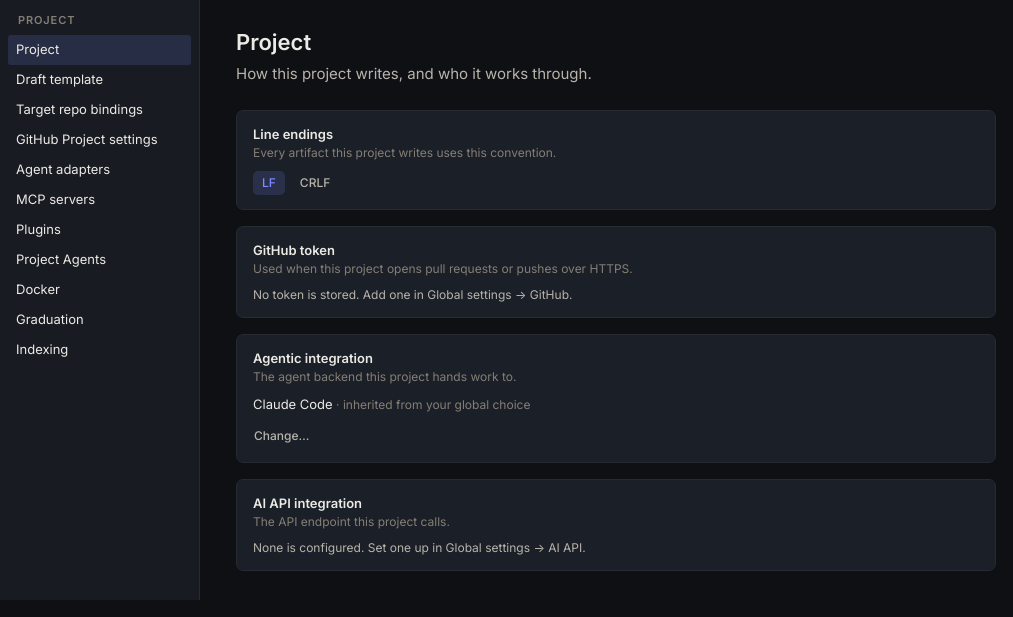
Test: the Project section's AI integration controls (SET-FR-13 / SET-FR-14) › SET-FR-13 names the inherited agentic choice, then overrides it without a dirty state
The image size is (1013, 617).
Click the tab "Project". click: coordinates (100, 50)
box: 8,34 -> 191,64
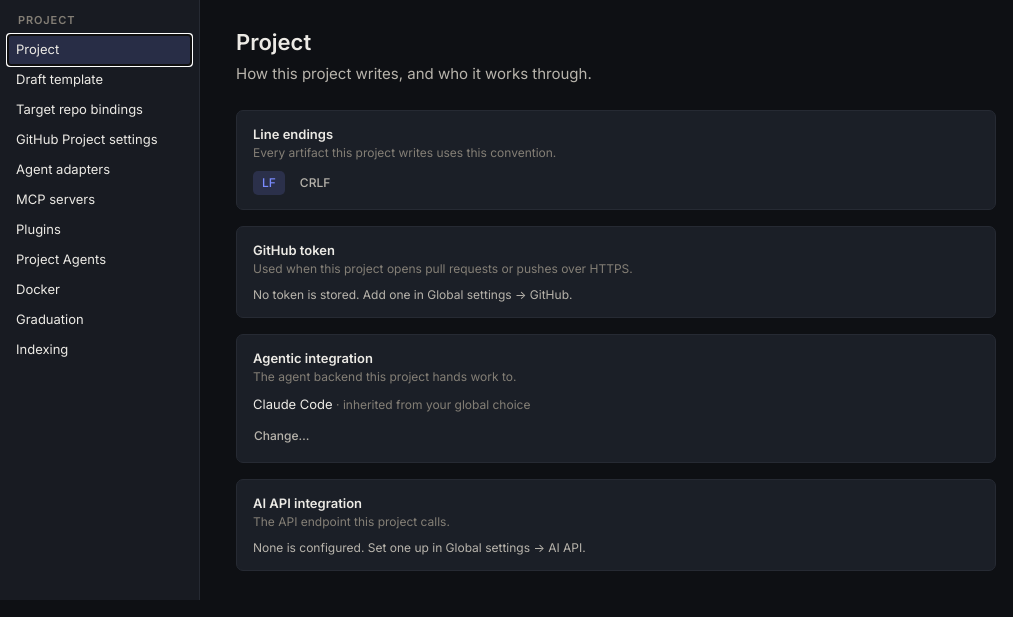
Expected: the element with test id "settings-agentic-integration" shows "Claude Code", 253,396 -> 333,412
Expected: the element with test id "settings-agentic-integration" shows "inherited", 336,397 -> 530,412
Click the button "Change…". click: coordinates (282, 436)
box: 245,424 -> 318,448
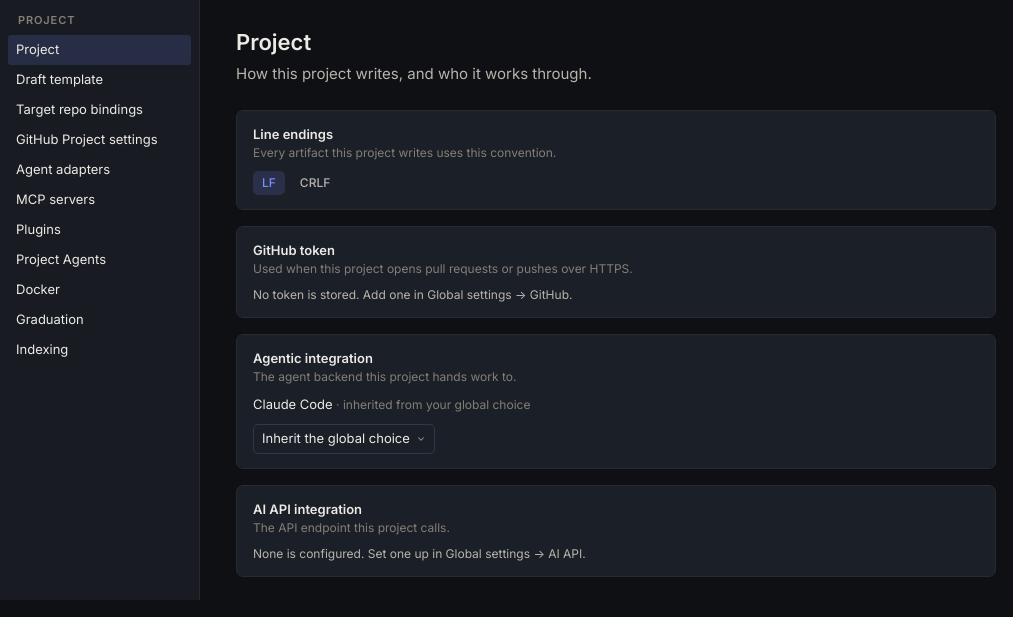
Select "Codex" in the dropdown named "Agentic integration". click: coordinates (344, 439)
box: 253,424 -> 435,454
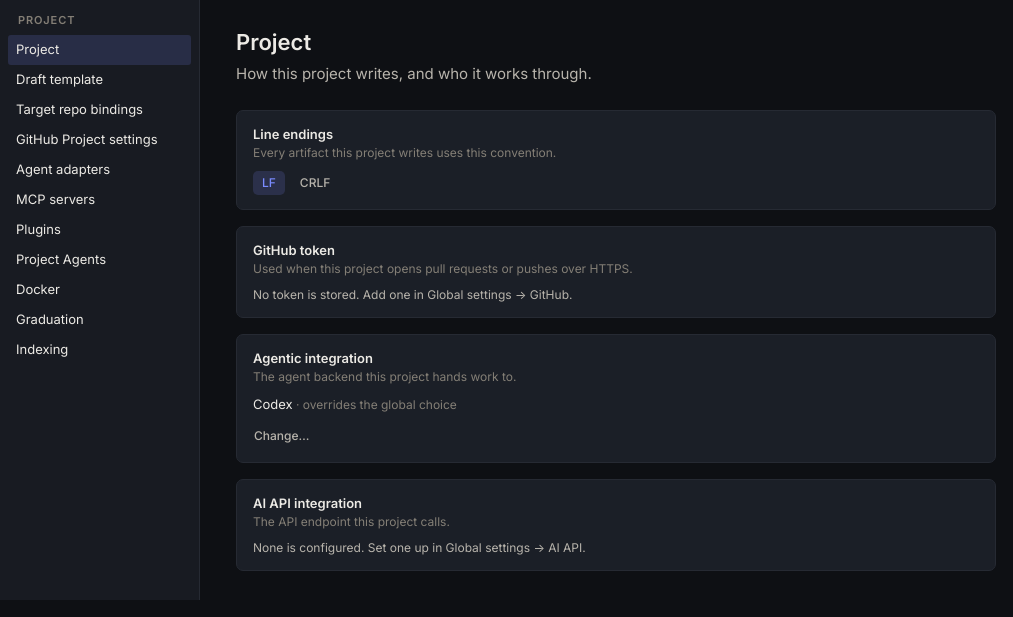
Expected: the element with test id "settings-agentic-integration" shows "overrides the global choice", 293,397 -> 457,412
